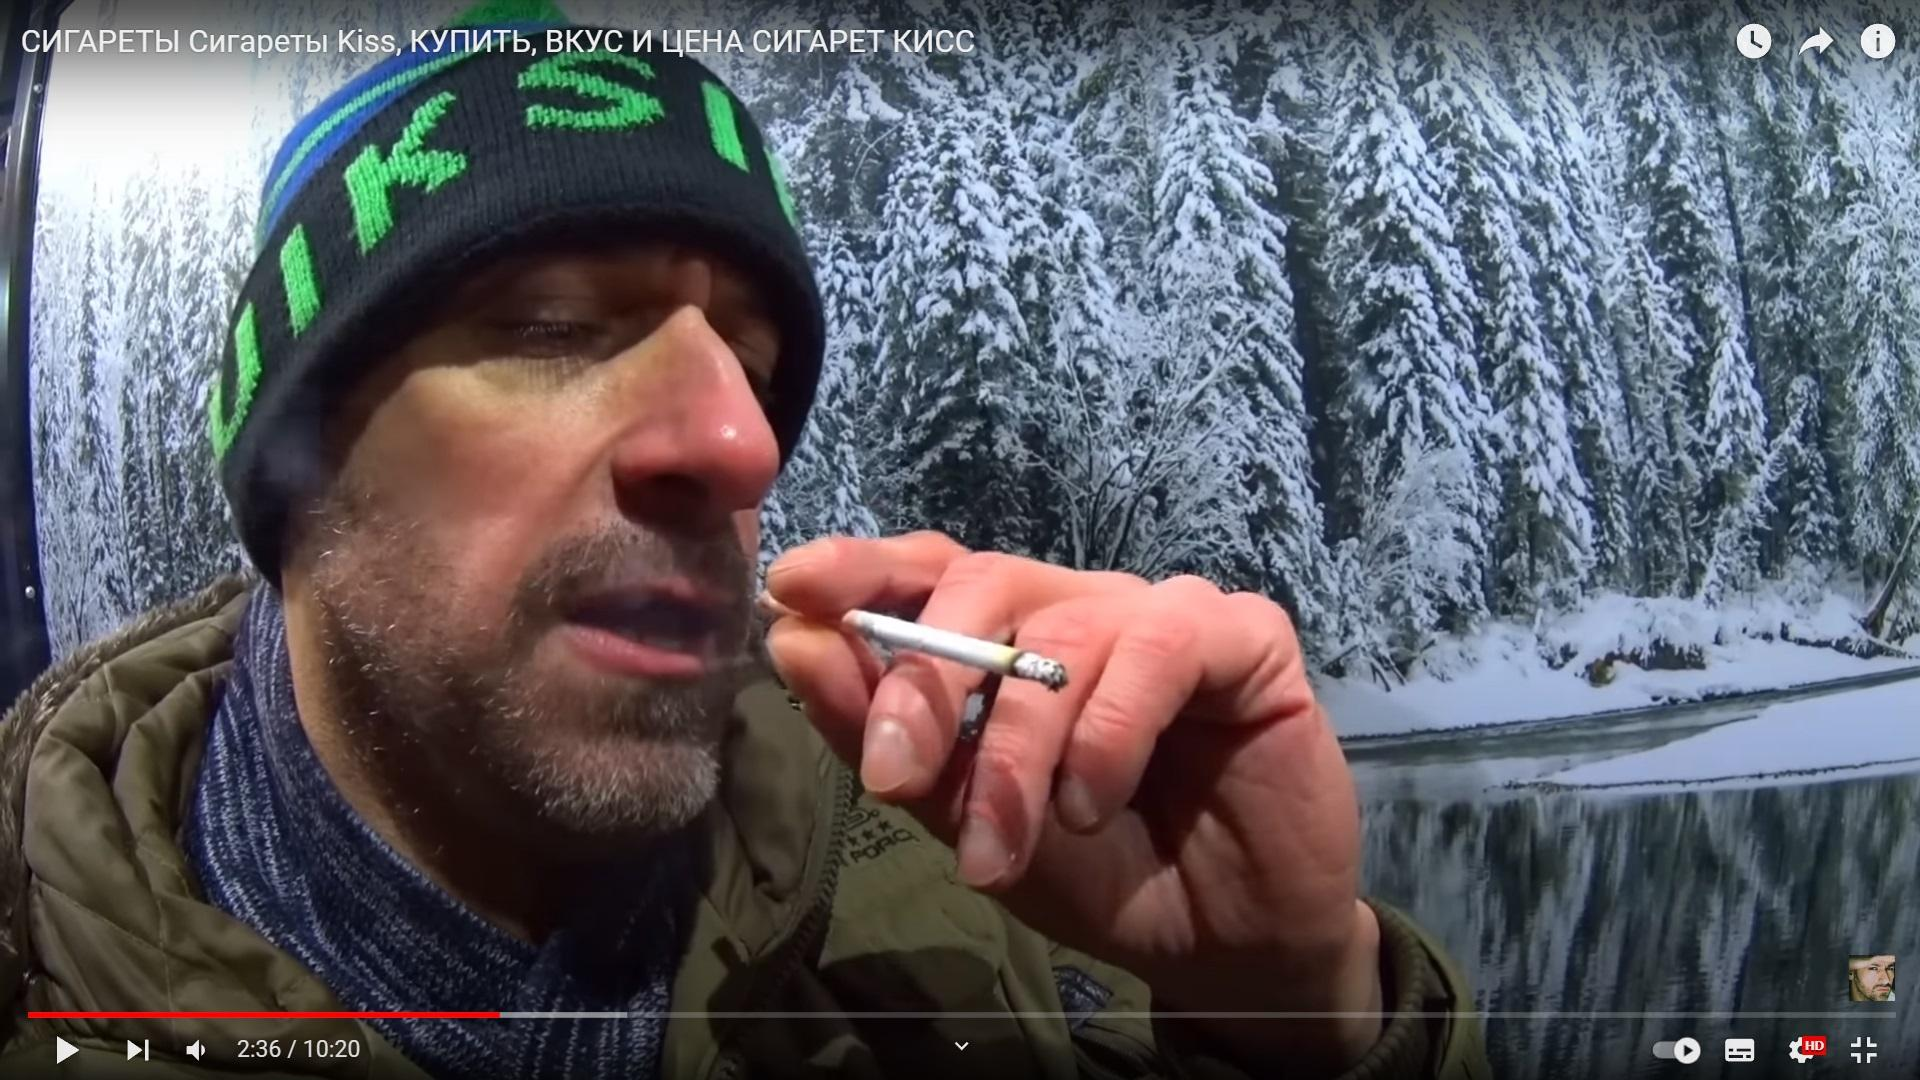cigarette: (757, 588, 1065, 694)
